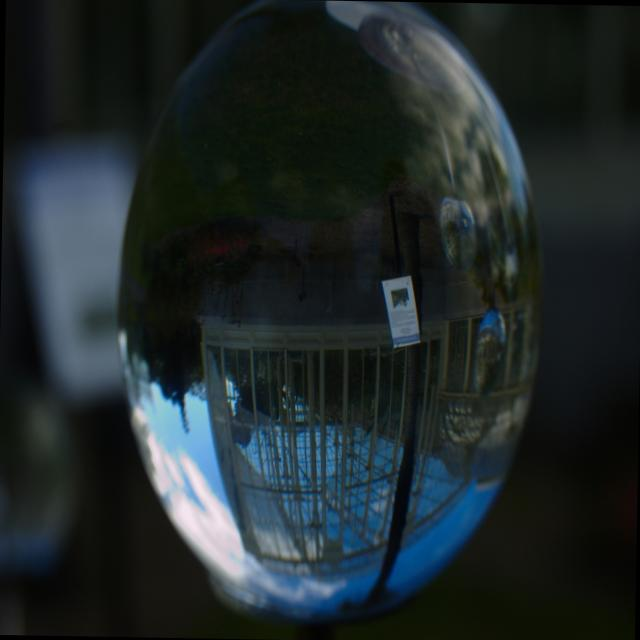Ball: (111, 0, 546, 625)
